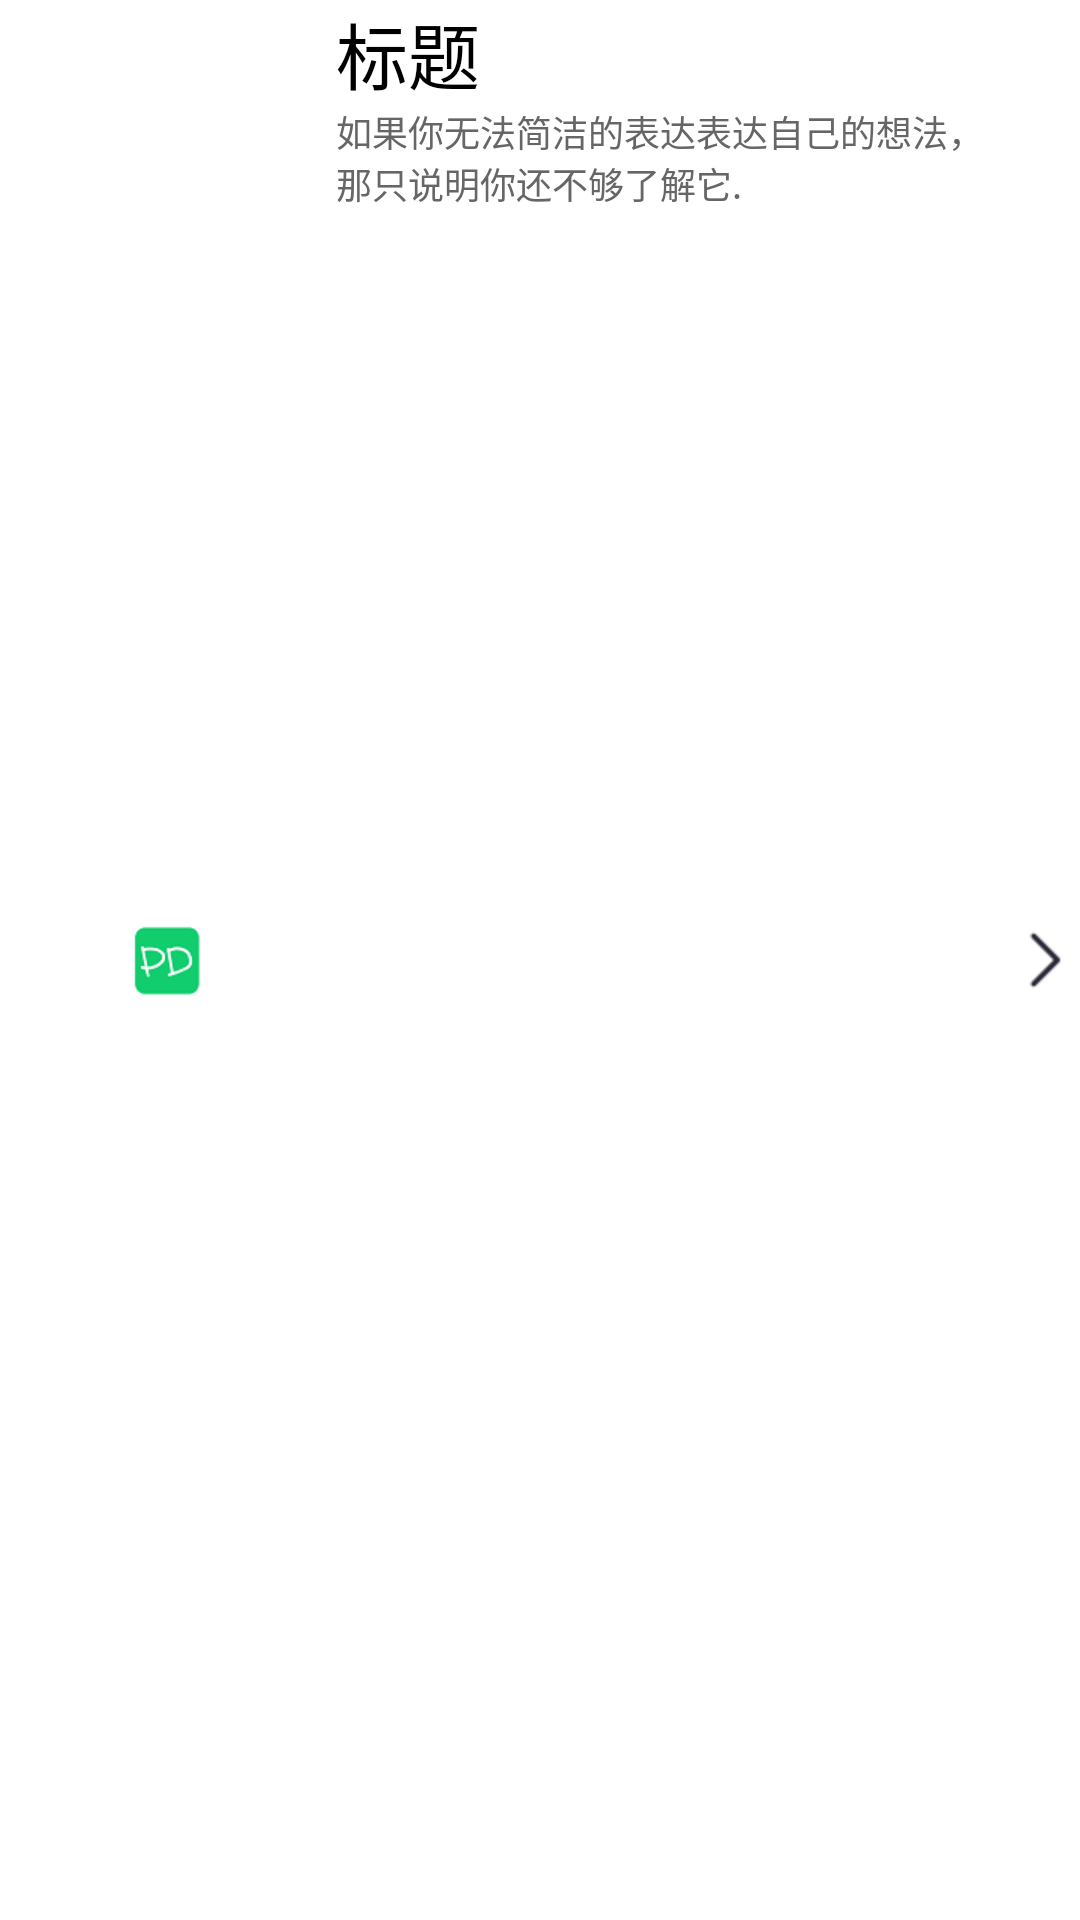

Named icons in this screenshot (1080px×1920px) and their bounding boxes, (x1, y1, x2, y2):
into: (1030, 932, 1061, 988)
